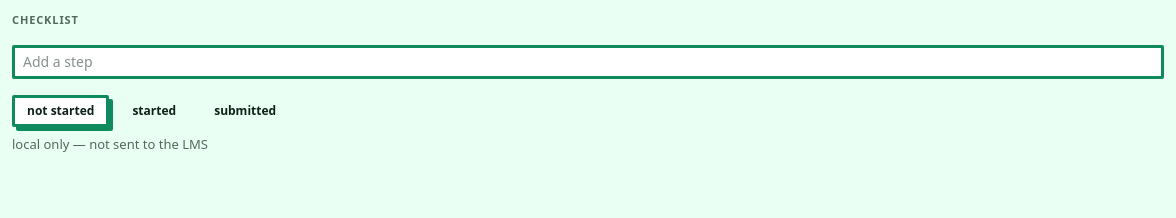
Test: adding an item persists to localStorage['ares.checklist.<id>']
Step 1. Type "Read spec" into the field with placeholder "Add a step" → (588, 62), box top-left (12, 44), bottom-right (1164, 78)
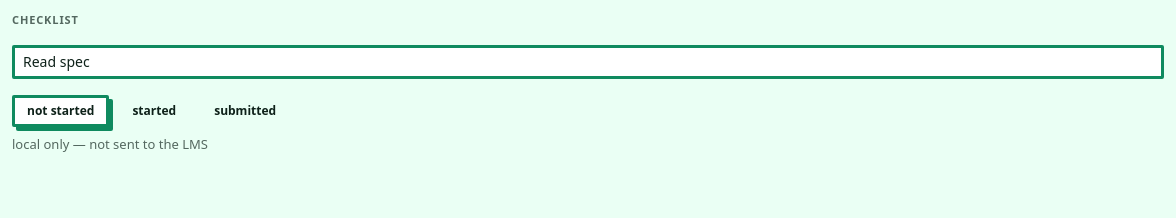
Step 2. Press Enter in the field with placeholder "Add a step", box top-left (12, 44), bottom-right (1164, 78)
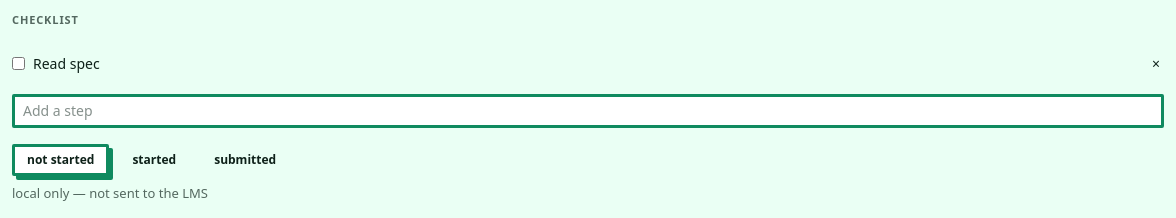
expect the text "Read spec" is shown: met, box top-left (33, 54), bottom-right (100, 72)
